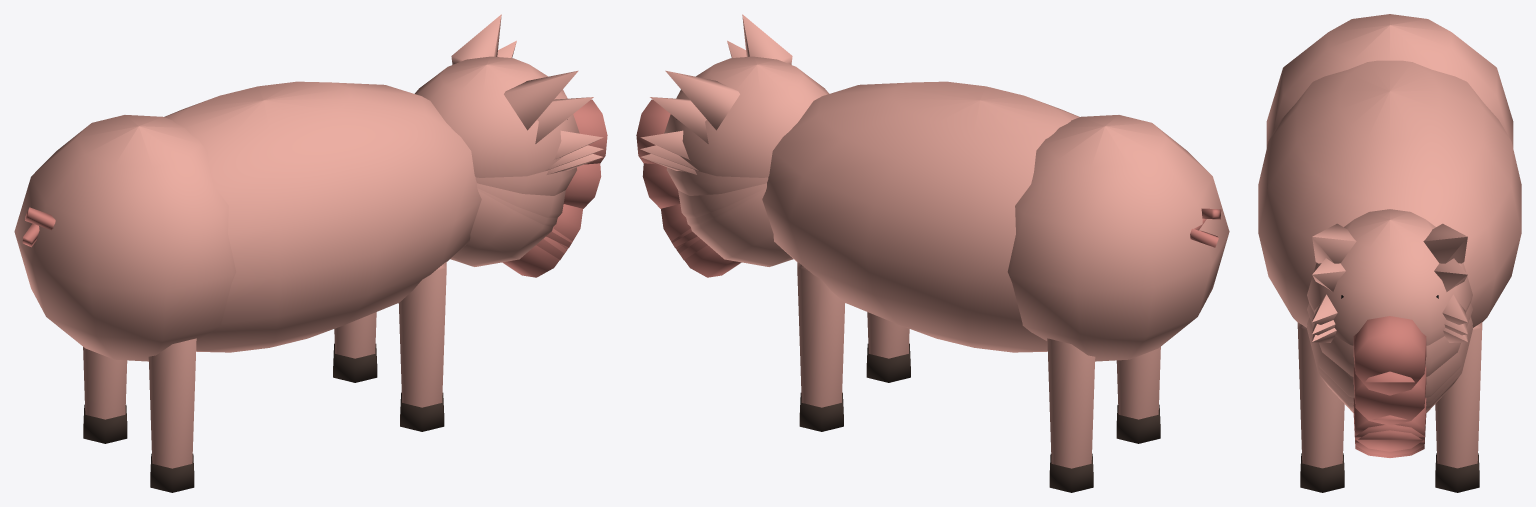
The model's file is prase.glb.
3 views of the same model, side by side, from view 1: azimuth 30°, elevation 25°; view 2: azimuth 150°, elevation 25°; view 3: azimuth 270°, elevation 25° (orthographic).
Visible parts, largest first — view 1: prase_telo_00, prase_hlava_00, prase_hlava_03, prase_hlava_01, prase_hlava_02, prase_hlava_04; view 2: prase_telo_00, prase_hlava_00, prase_hlava_03, prase_hlava_01, prase_hlava_02, prase_hlava_04; view 3: prase_telo_00, prase_hlava_00, prase_hlava_01, prase_hlava_02, prase_hlava_04, prase_hlava_03.
Part boxes in pixels (<box>): prase_telo_00: <box>14,81,481,492</box>; prase_hlava_00: <box>414,14,607,177</box>; prase_hlava_03: <box>450,154,603,277</box>; prase_hlava_01: <box>475,40,601,208</box>; prase_hlava_02: <box>477,130,603,247</box>; prase_hlava_04: <box>477,145,603,259</box>; prase_telo_00: <box>762,81,1229,492</box>; prase_hlava_00: <box>636,14,829,177</box>; prase_hlava_03: <box>640,154,793,277</box>; prase_hlava_01: <box>642,40,768,208</box>; prase_hlava_02: <box>640,130,766,247</box>; prase_hlava_04: <box>640,145,766,259</box>; prase_telo_00: <box>1258,14,1521,492</box>; prase_hlava_00: <box>1307,209,1472,395</box>; prase_hlava_01: <box>1307,258,1472,425</box>; prase_hlava_02: <box>1307,294,1472,451</box>; prase_hlava_04: <box>1307,320,1472,455</box>; prase_hlava_03: <box>1307,328,1472,457</box>.
Bounding box in the file's own units: 1.27 × 0.71 × 0.507.
Materials: 1 (1 with a texture image).
